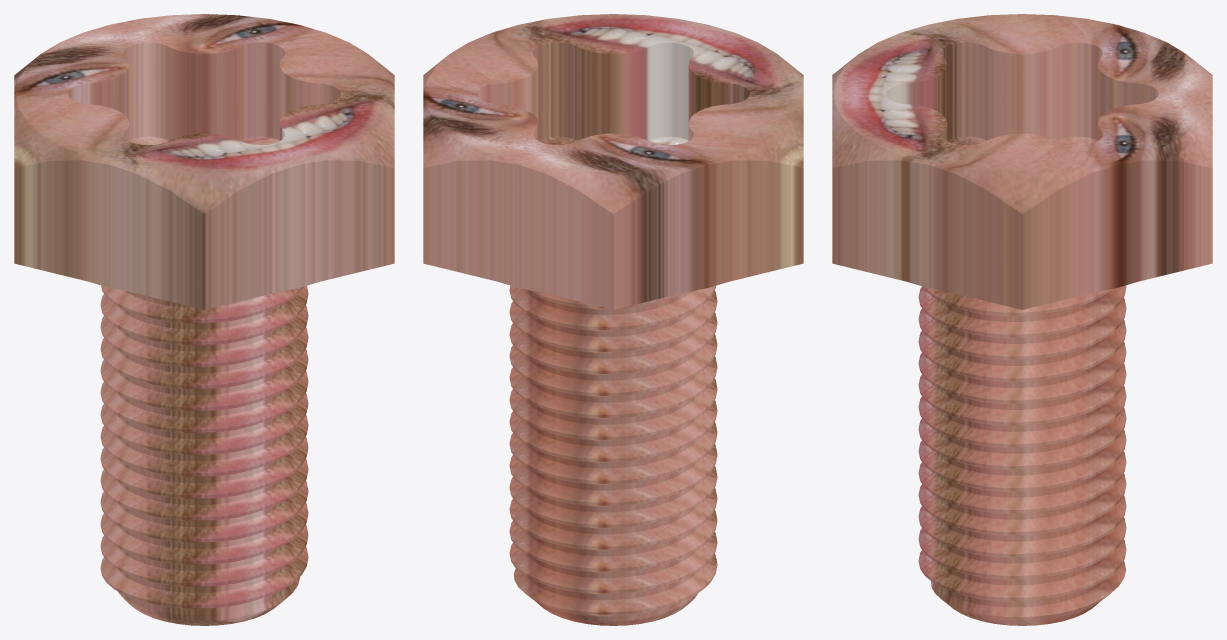
The model's file is kroeger-hex-torx-bolt.glb.
The picture shows the model from 3 angles, left to right: view 1: azimuth 30°, elevation 25°; view 2: azimuth 150°, elevation 25°; view 3: azimuth 270°, elevation 25°; orthographic projection.
Parts seen in each view (by area): view 1: Bolt.004; view 2: Bolt.004; view 3: Bolt.004.
Part boxes in pixels (left/top/right/bottom): Bolt.004: left=14, top=14, right=394, bottom=625; Bolt.004: left=423, top=14, right=803, bottom=625; Bolt.004: left=832, top=14, right=1212, bottom=625.
Bounding box in the file's own units: 0.0127 × 0.0159 × 0.011.
Materials: 1 (1 with a texture image).
